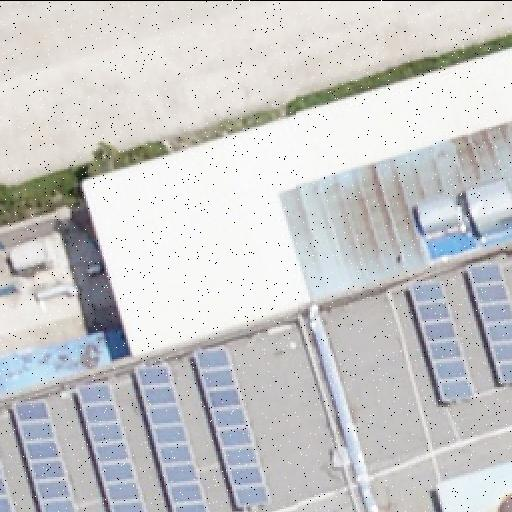solar-panel: (191, 343, 273, 505), (133, 361, 211, 511), (74, 377, 150, 511), (408, 278, 476, 402), (11, 400, 77, 512), (464, 259, 512, 381), (0, 454, 16, 512)
